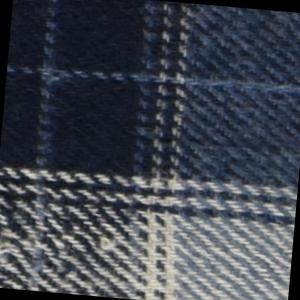Stain: (1, 200, 86, 285)
